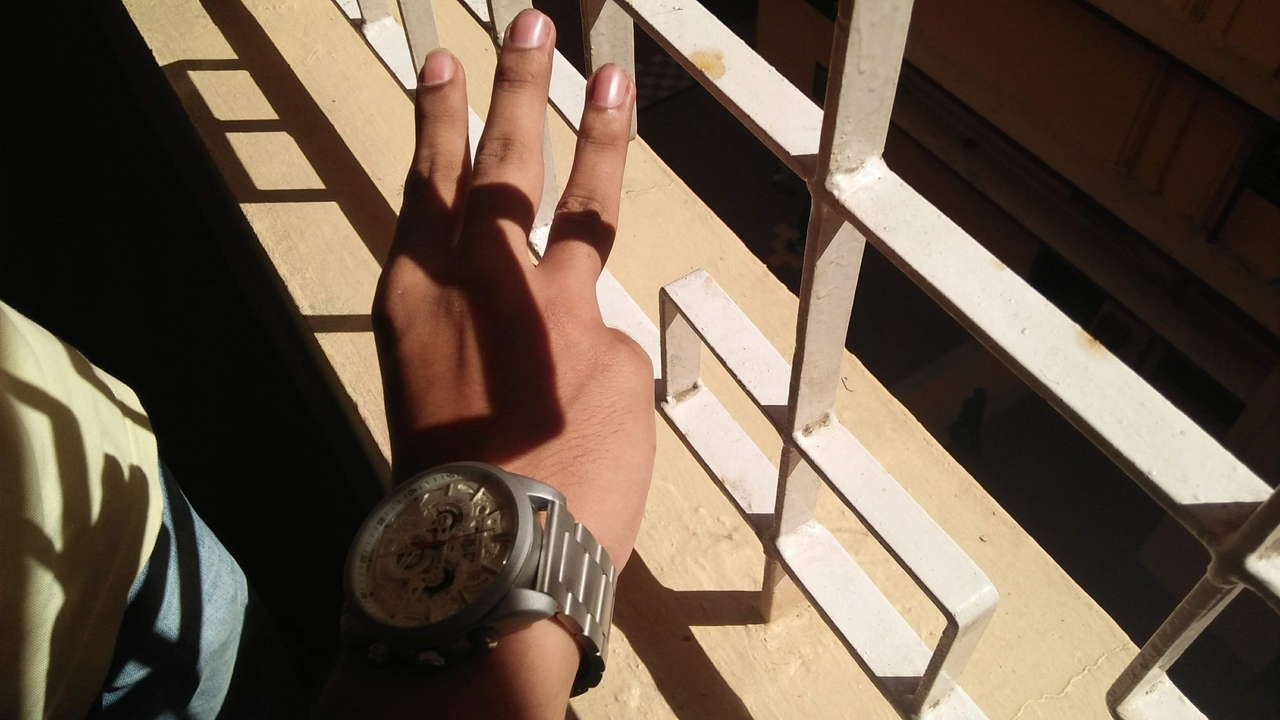fingertip: (580, 52, 640, 112), (508, 4, 564, 56), (412, 40, 466, 92)
